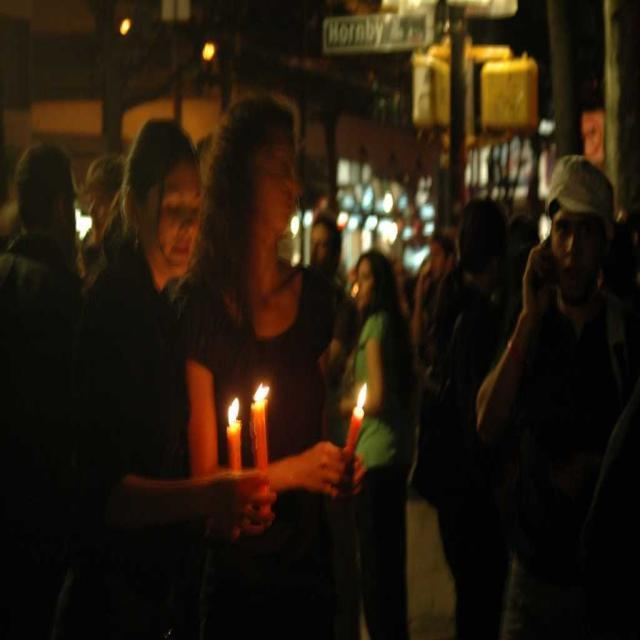Fire: (358, 376, 369, 418), (227, 385, 237, 425), (253, 376, 268, 402)
